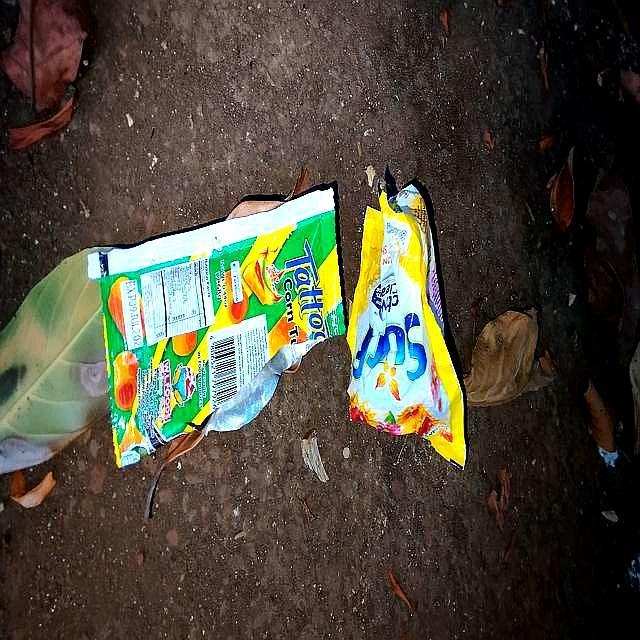Non-biodegradable: (87, 180, 348, 472), (349, 183, 471, 473)
